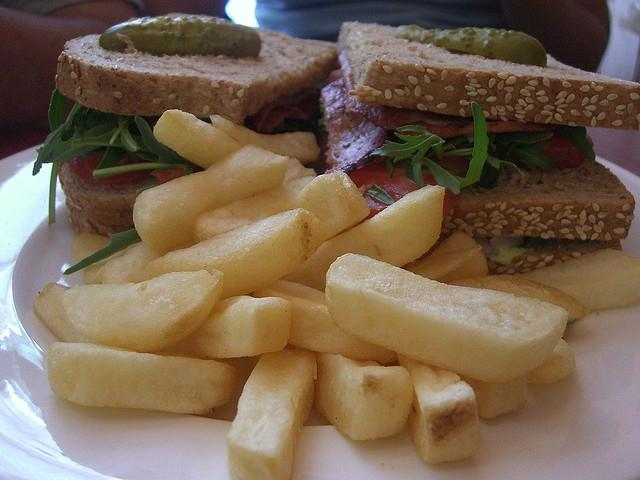lettuce: (402, 103, 489, 194), (94, 116, 195, 179), (32, 103, 110, 176), (35, 118, 119, 164), (64, 228, 142, 274), (370, 124, 446, 166), (480, 155, 526, 189), (72, 130, 150, 150), (552, 125, 596, 160), (510, 142, 557, 174), (97, 146, 158, 169), (490, 237, 535, 265), (48, 88, 66, 132), (109, 115, 132, 144), (488, 138, 518, 160)
tomato: (346, 156, 470, 224), (508, 132, 594, 171), (68, 154, 152, 184), (153, 168, 185, 184)
